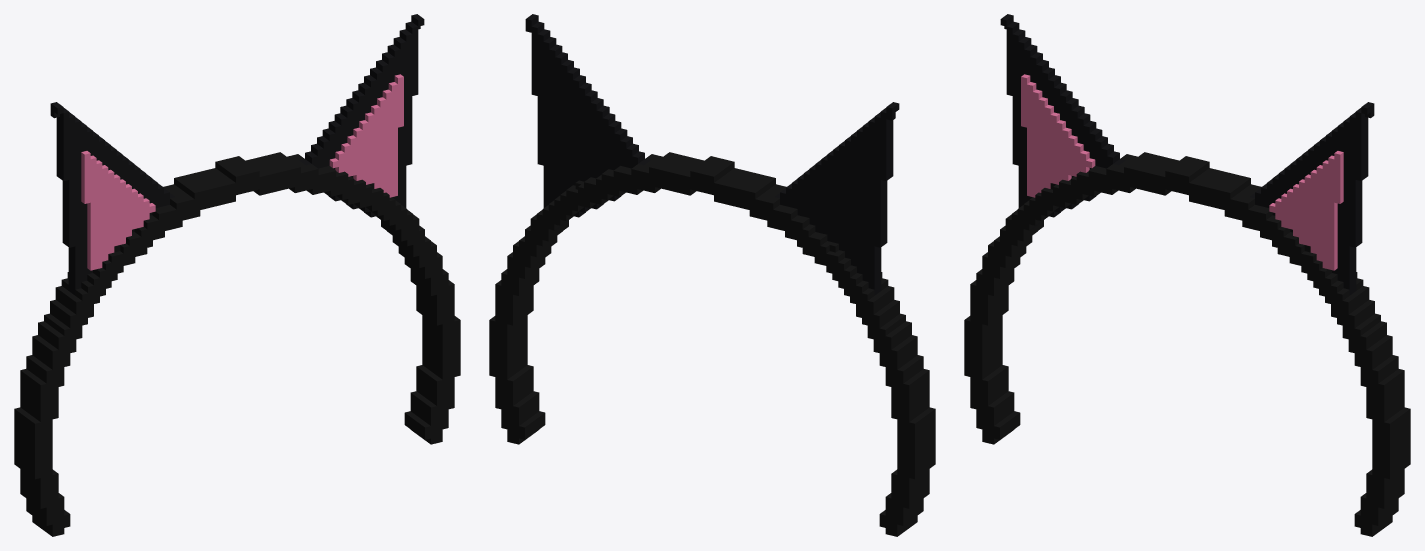
The model's file is leather_cat_ears.glb.
3 renders of one model, left to right at view 1: azimuth 30°, elevation 25°; view 2: azimuth 150°, elevation 25°; view 3: azimuth 330°, elevation 25°, orthographic.
Visible parts, largest first — view 1: leather_cat_ears:compound; view 2: leather_cat_ears:compound; view 3: leather_cat_ears:compound.
Boxes of the visible parts, x1,y1,x2,y2 form: leather_cat_ears:compound: [14, 14, 460, 536]; leather_cat_ears:compound: [489, 14, 935, 536]; leather_cat_ears:compound: [964, 14, 1410, 536].
Size of the model in its own units: 0.144 by 0.136 by 0.012.
